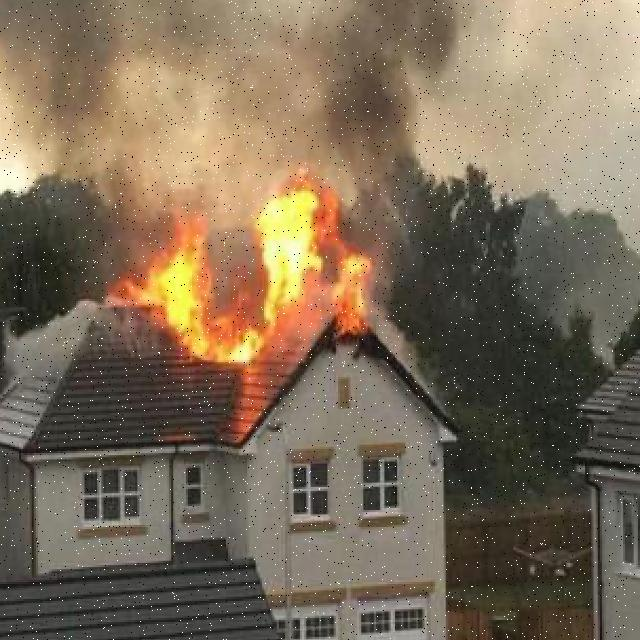fire: (133, 197, 363, 375)
smoke: (0, 0, 473, 225), (363, 282, 448, 423), (0, 295, 97, 381)
